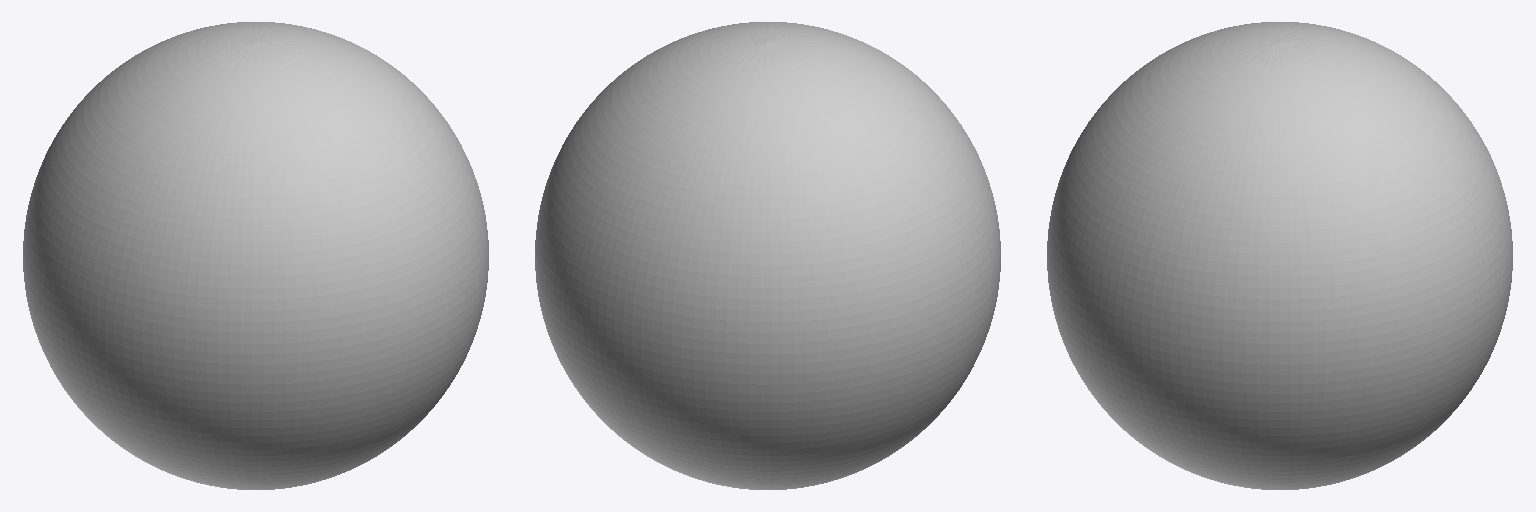
File: venus-planets.obj
3 renders of one model, left to right at view 1: azimuth 30°, elevation 25°; view 2: azimuth 150°, elevation 25°; view 3: azimuth 270°, elevation 25°, orthographic.
Visible parts, largest first — view 1: Sphere.001; view 2: Sphere.001; view 3: Sphere.001.
Boxes of the visible parts, <box> form: Sphere.001: <box>23,22,488,489</box>; Sphere.001: <box>535,22,1000,489</box>; Sphere.001: <box>1047,22,1512,489</box>.
Bounding box in the file's own units: 1.97 × 2 × 1.97.